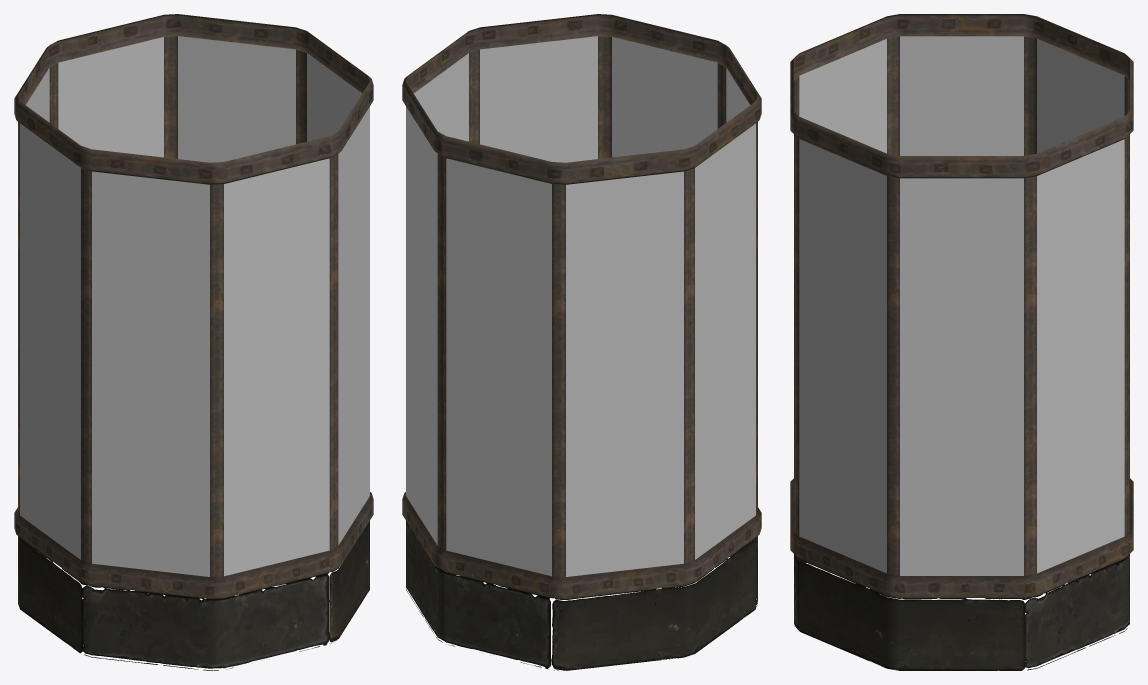
3 renders of one model, left to right at view 1: azimuth 30°, elevation 25°; view 2: azimuth 150°, elevation 25°; view 3: azimuth 270°, elevation 25°, orthographic.
Visible parts, largest first — view 1: SM_Dowdun_Corner_Turret_01_LOD0; view 2: SM_Dowdun_Corner_Turret_01_LOD0; view 3: SM_Dowdun_Corner_Turret_01_LOD0.
Part boxes in pixels (box(x1,y1,x2,y2)): SM_Dowdun_Corner_Turret_01_LOD0: box(14, 14, 373, 670); SM_Dowdun_Corner_Turret_01_LOD0: box(402, 14, 761, 670); SM_Dowdun_Corner_Turret_01_LOD0: box(790, 14, 1133, 670).
Bounding box in the file's own units: 6.04 × 10 × 6.04.
Materials: 2 (1 with a texture image).
